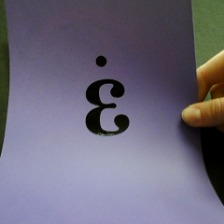violet3: (74, 52, 137, 138)
